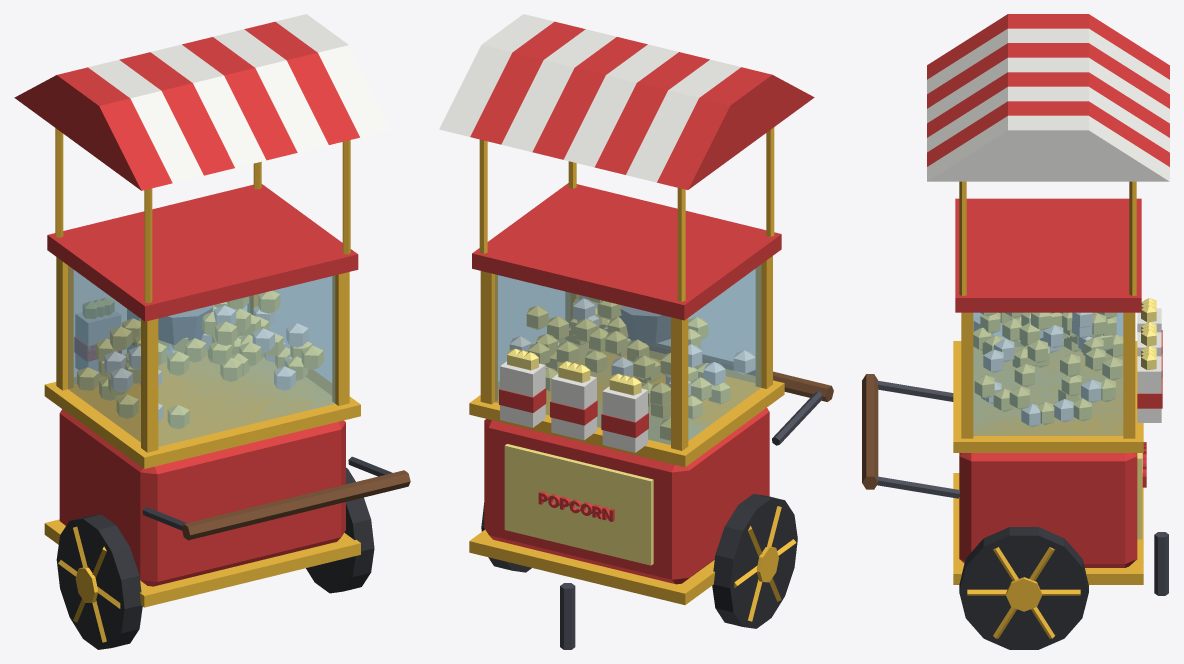
The model's file is PopcornCart.fbx.
3 renders of one model, left to right at view 1: azimuth 30°, elevation 25°; view 2: azimuth 150°, elevation 25°; view 3: azimuth 270°, elevation 25°, orthographic. The views are drawn at different scales.
Parts seen in each view (by area): view 1: PopcornCart_Red, PopcornCart_Gold, PopcornCart_Glass, PopcornCart_White, PopcornCart_Charcoal, PopcornCart_Lemon, PopcornCart_WoodDark, PopcornCart_Metal, PopcornCart_DarkMetal; view 2: PopcornCart_Red, PopcornCart_White, PopcornCart_Gold, PopcornCart_Glass, PopcornCart_Lemon, PopcornCart_Charcoal, PopcornCart_DarkMetal, PopcornCart_Metal, PopcornCart_WoodDark; view 3: PopcornCart_Red, PopcornCart_White, PopcornCart_Gold, PopcornCart_Glass, PopcornCart_Lemon, PopcornCart_Charcoal, PopcornCart_DarkMetal, PopcornCart_WoodDark.
Part boxes in pixels (x1,y1,x2,y2): PopcornCart_Red: [14, 21, 359, 586]; PopcornCart_Gold: [44, 128, 360, 642]; PopcornCart_Glass: [68, 265, 335, 446]; PopcornCart_White: [75, 14, 391, 421]; PopcornCart_Charcoal: [56, 467, 374, 649]; PopcornCart_Lemon: [77, 291, 323, 428]; PopcornCart_WoodDark: [182, 470, 410, 540]; PopcornCart_Metal: [158, 305, 213, 344]; PopcornCart_DarkMetal: [142, 456, 392, 530]; PopcornCart_Red: [470, 21, 814, 584]; PopcornCart_White: [439, 14, 755, 452]; PopcornCart_Gold: [469, 127, 796, 621]; PopcornCart_Glass: [495, 265, 761, 444]; PopcornCart_Lemon: [504, 297, 730, 565]; PopcornCart_Charcoal: [481, 494, 797, 628]; PopcornCart_DarkMetal: [560, 391, 822, 649]; PopcornCart_Metal: [619, 305, 670, 343]; PopcornCart_WoodDark: [631, 340, 833, 401]; PopcornCart_Red: [927, 14, 1169, 567]; PopcornCart_White: [927, 28, 1169, 426]; PopcornCart_Gold: [953, 181, 1143, 638]; PopcornCart_Glass: [973, 312, 1123, 435]; PopcornCart_Lemon: [973, 298, 1156, 539]; PopcornCart_Charcoal: [959, 527, 1088, 649]; PopcornCart_DarkMetal: [876, 380, 1168, 595]; PopcornCart_WoodDark: [862, 374, 878, 489].
Bounding box in the file's own units: 7.1 × 14.2 × 7.6.
